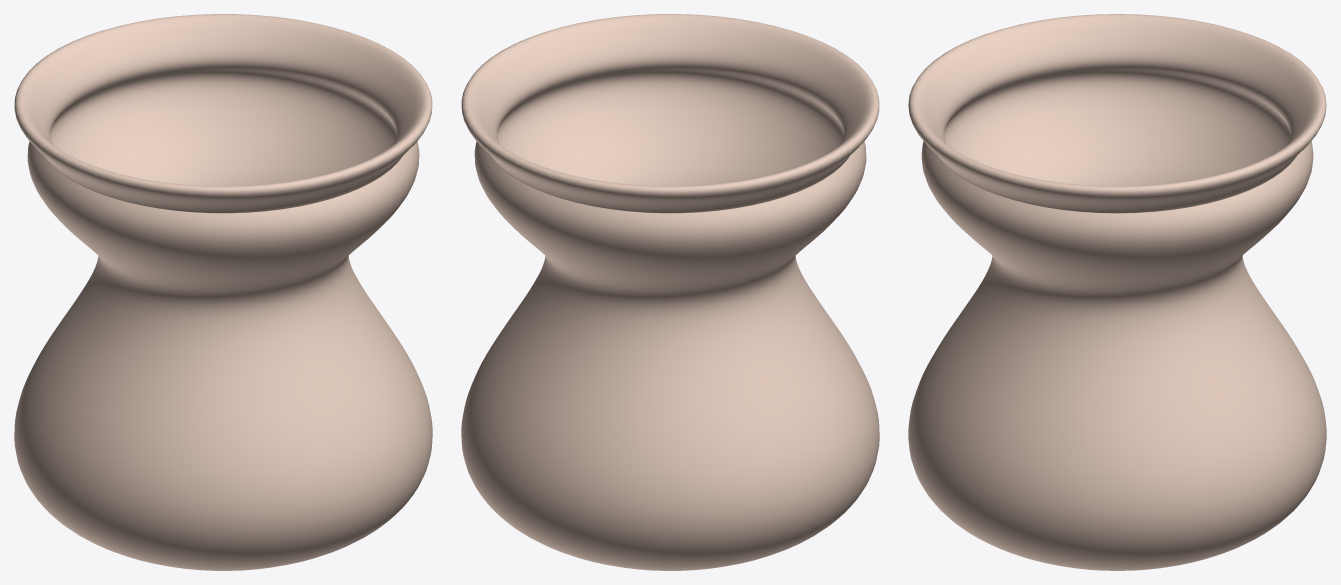
Rendered from Gerro_3.fbx.
3 renders of one model, left to right at view 1: azimuth 30°, elevation 25°; view 2: azimuth 150°, elevation 25°; view 3: azimuth 270°, elevation 25°, orthographic.
Visible parts, largest first — view 1: Gerro3; view 2: Gerro3; view 3: Gerro3.
Boxes of the visible parts, <box> form: Gerro3: <box>14,14,432,570</box>; Gerro3: <box>461,14,879,570</box>; Gerro3: <box>908,14,1326,570</box>.
Size of the model in its own units: 352 by 399 by 352.
